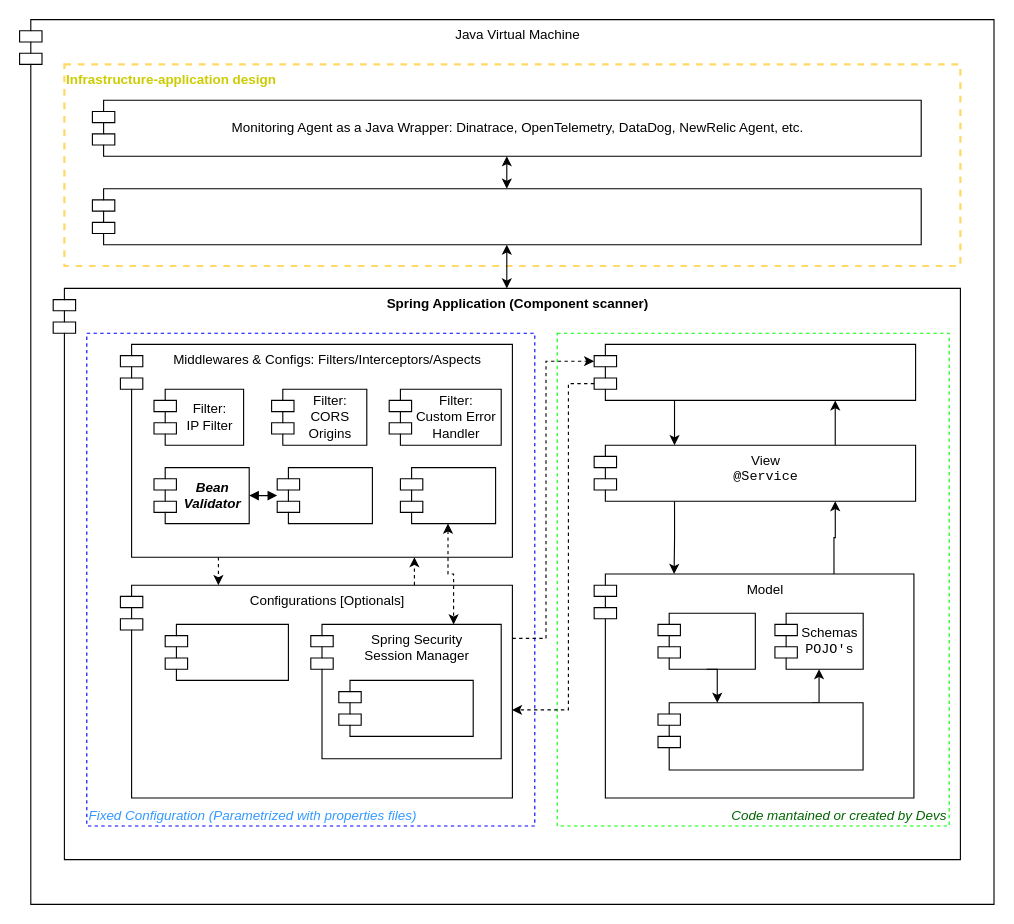
This 1014x924 diagram has some shape labels left out. Each missing label, with the centre of its shape:
"Access & Mapping Data @Repository" belongs at point (760, 736).
"AuthManager (OKTA, OAuth, etc.)" belongs at point (405, 707).
"Basic OpenAPI Doc @Swing" belongs at point (226, 651).
"Controller @RestController" belongs at point (754, 371).
"Cyphers" belongs at point (324, 495).
"JWT Filter" belongs at point (447, 495).
"Models @Entity" belongs at point (706, 640).
"WebApplication Container: Tomcat/JBoss/Jetty..." belongs at point (506, 216).
